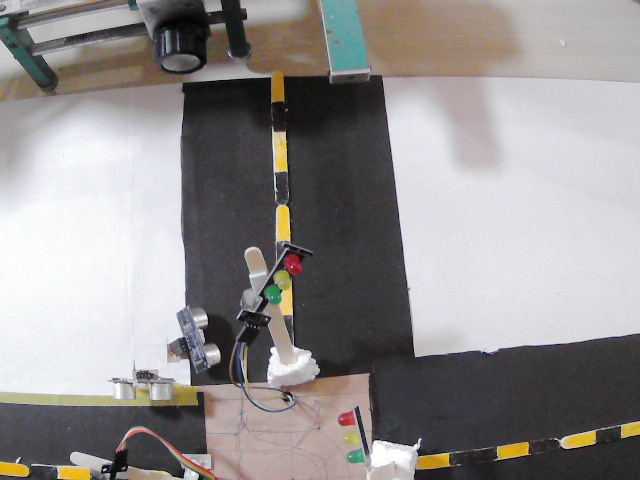black_strip: (448, 444, 495, 465), (272, 171, 290, 207), (268, 100, 288, 129), (527, 435, 558, 453), (596, 423, 622, 444), (28, 461, 55, 480), (273, 240, 288, 264), (282, 315, 293, 342)
mixed_lane: (416, 414, 640, 471), (266, 68, 294, 314), (0, 458, 88, 480)
traffic_light: (328, 405, 372, 468), (258, 254, 308, 309)
uno_breadboard: (173, 300, 221, 372), (106, 376, 176, 400)
yellow_strip: (268, 132, 292, 168), (496, 438, 528, 459), (280, 275, 296, 315), (272, 210, 292, 240), (418, 450, 446, 467), (1, 459, 27, 477), (57, 465, 88, 480), (575, 426, 597, 446), (270, 69, 282, 99), (620, 420, 638, 435)
